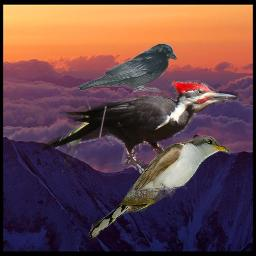Crow: (77, 43, 177, 92)
Cuckoo: (86, 134, 233, 240)
Woodpecker: (41, 80, 240, 177)
